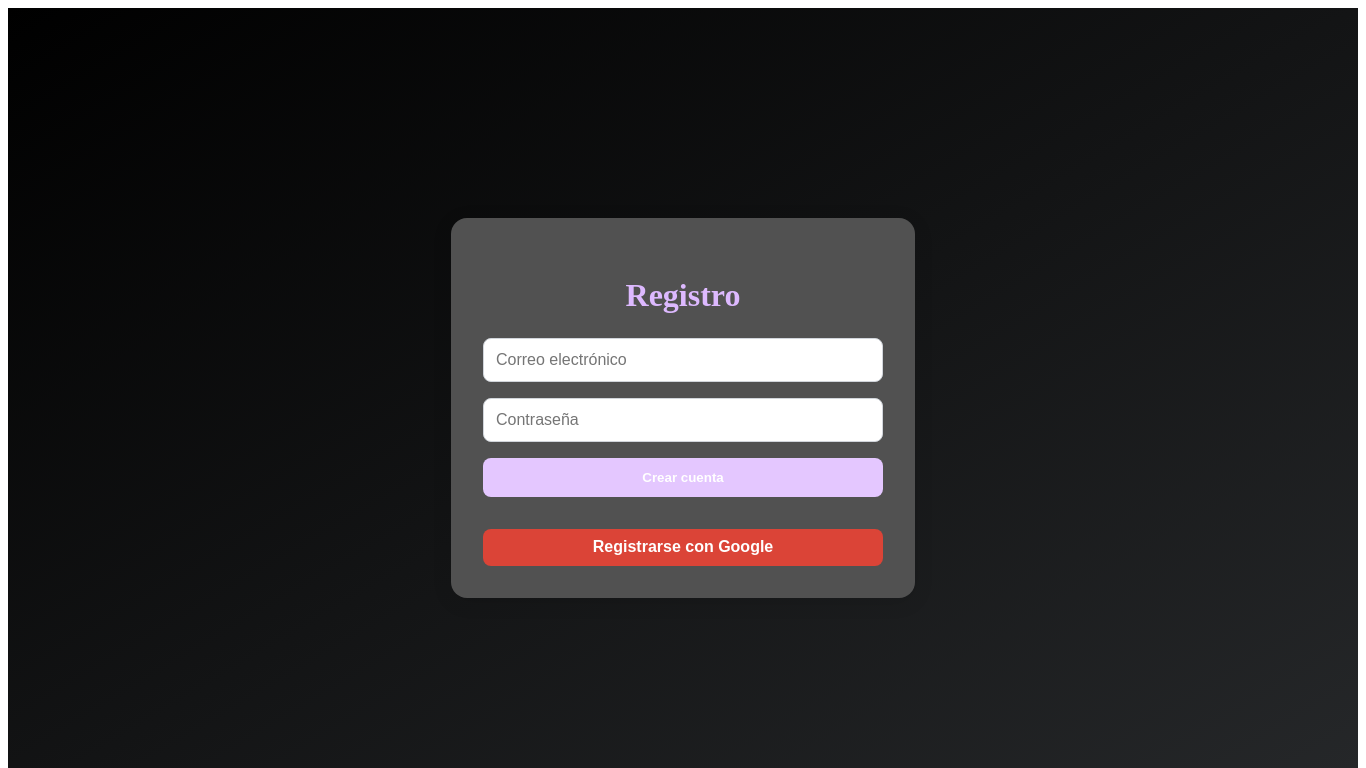
Test case: Signup › should show error when fields are empty
Click the button "Crear cuenta" at (683, 477), box [483,458,883,497]
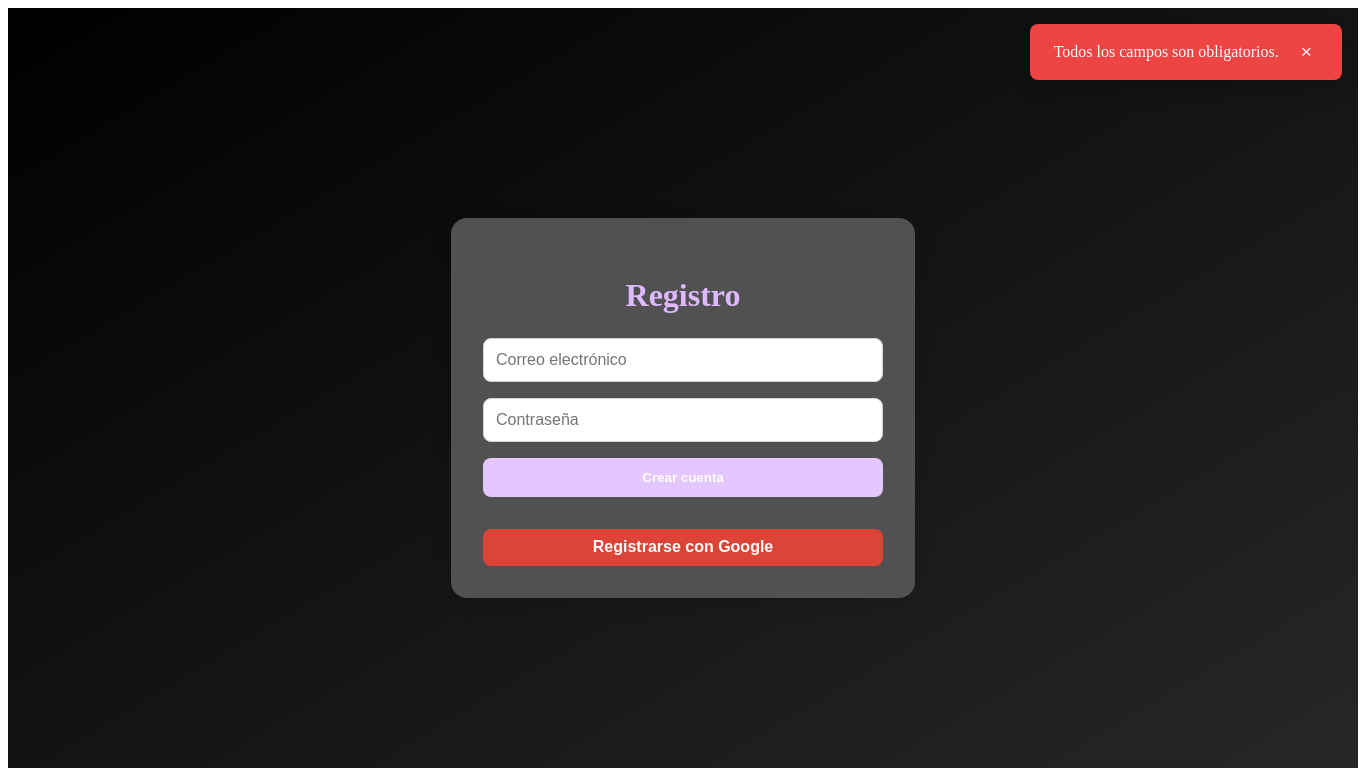
Expected: the text "Todos los campos son obligatorios." is shown, [1054,43,1279,61]
